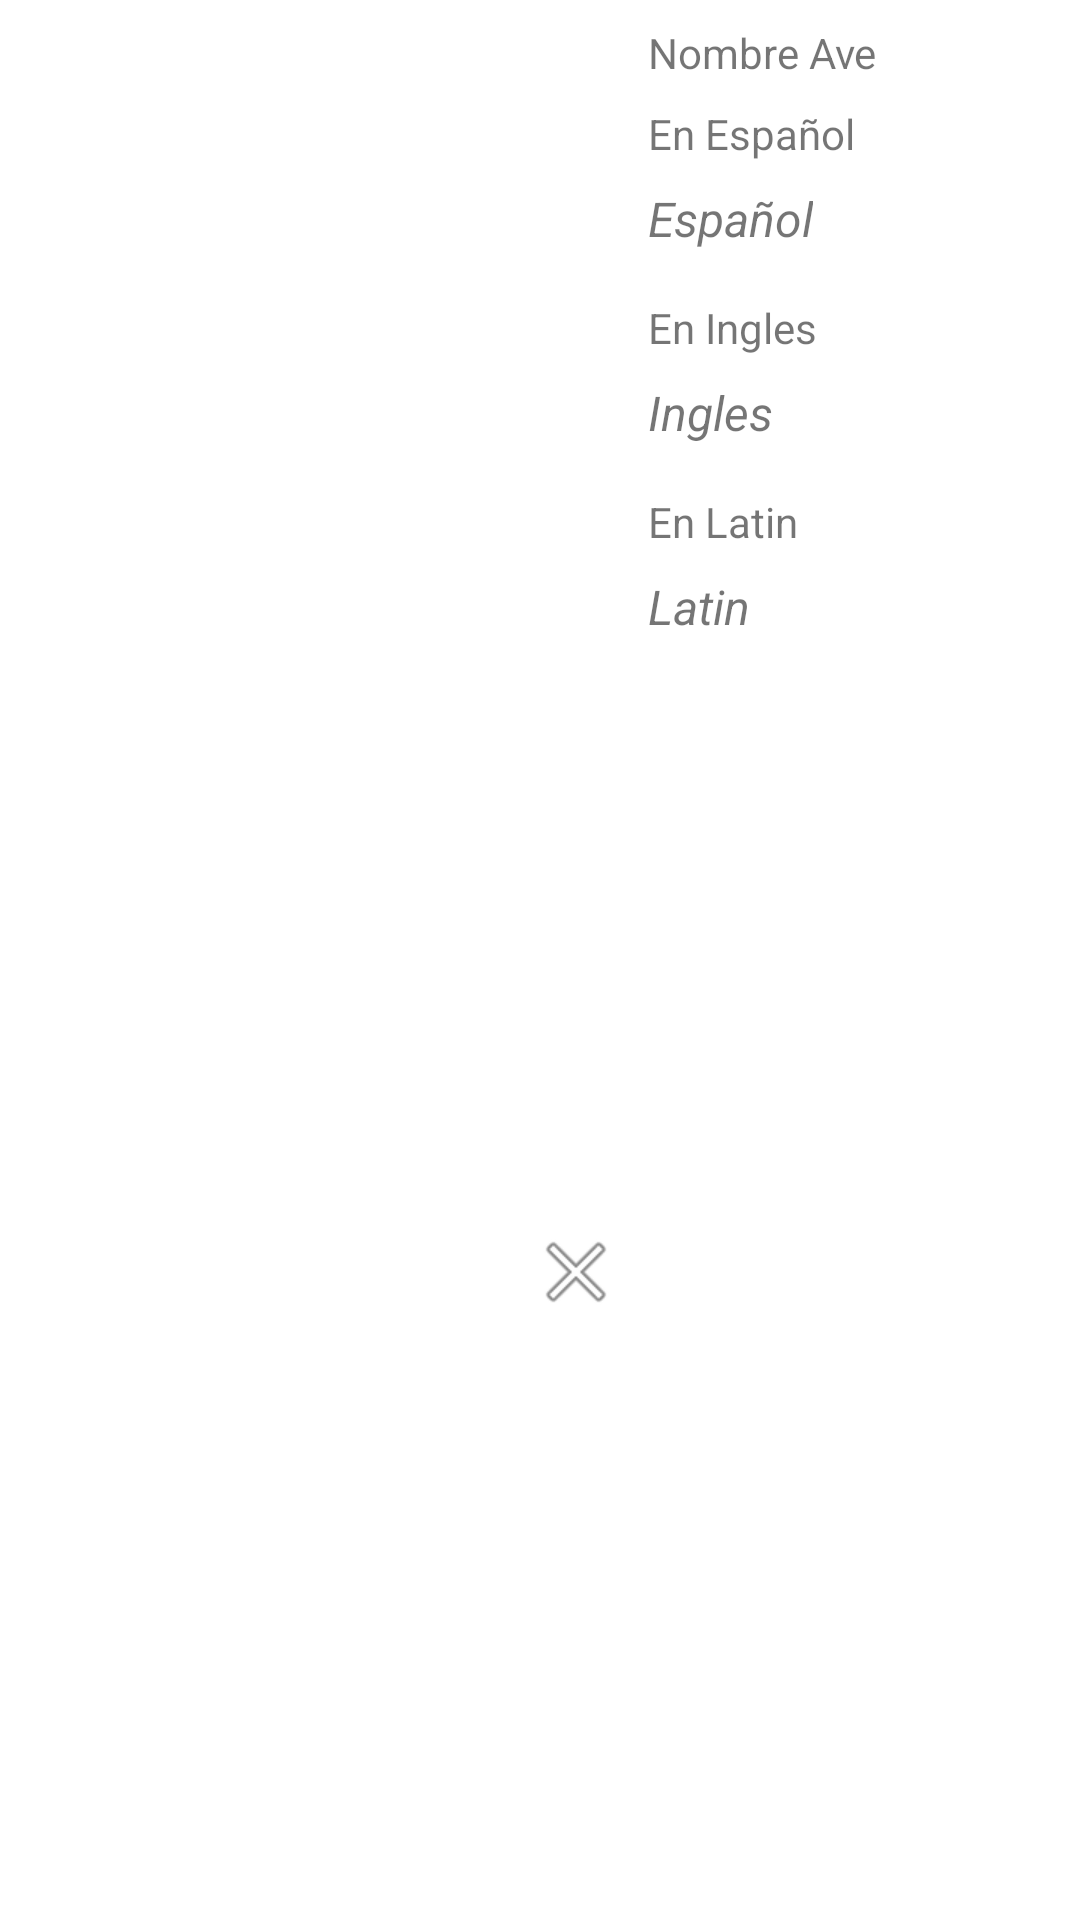

Icons on this 1080w x 1920h Android screen, each with the point to tap as [x,y]:
close clear cancel: [576,1272]
